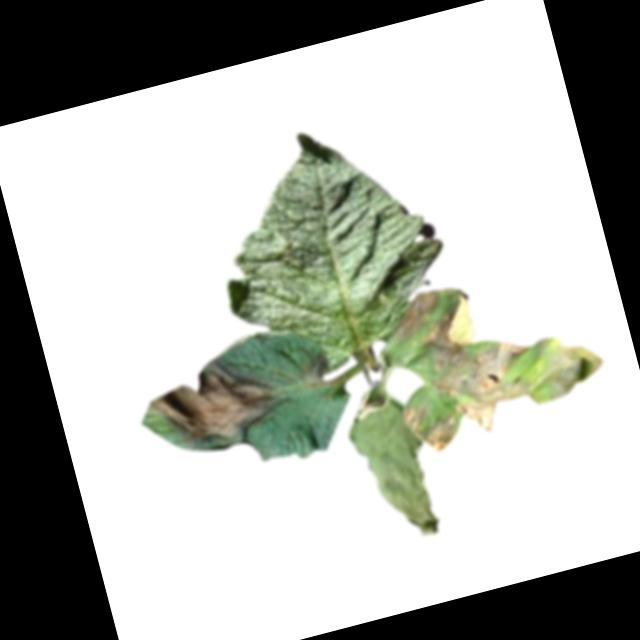Late_blight: (373, 269, 552, 459), (142, 346, 285, 454), (344, 398, 445, 550), (539, 337, 612, 400), (294, 352, 334, 389)
